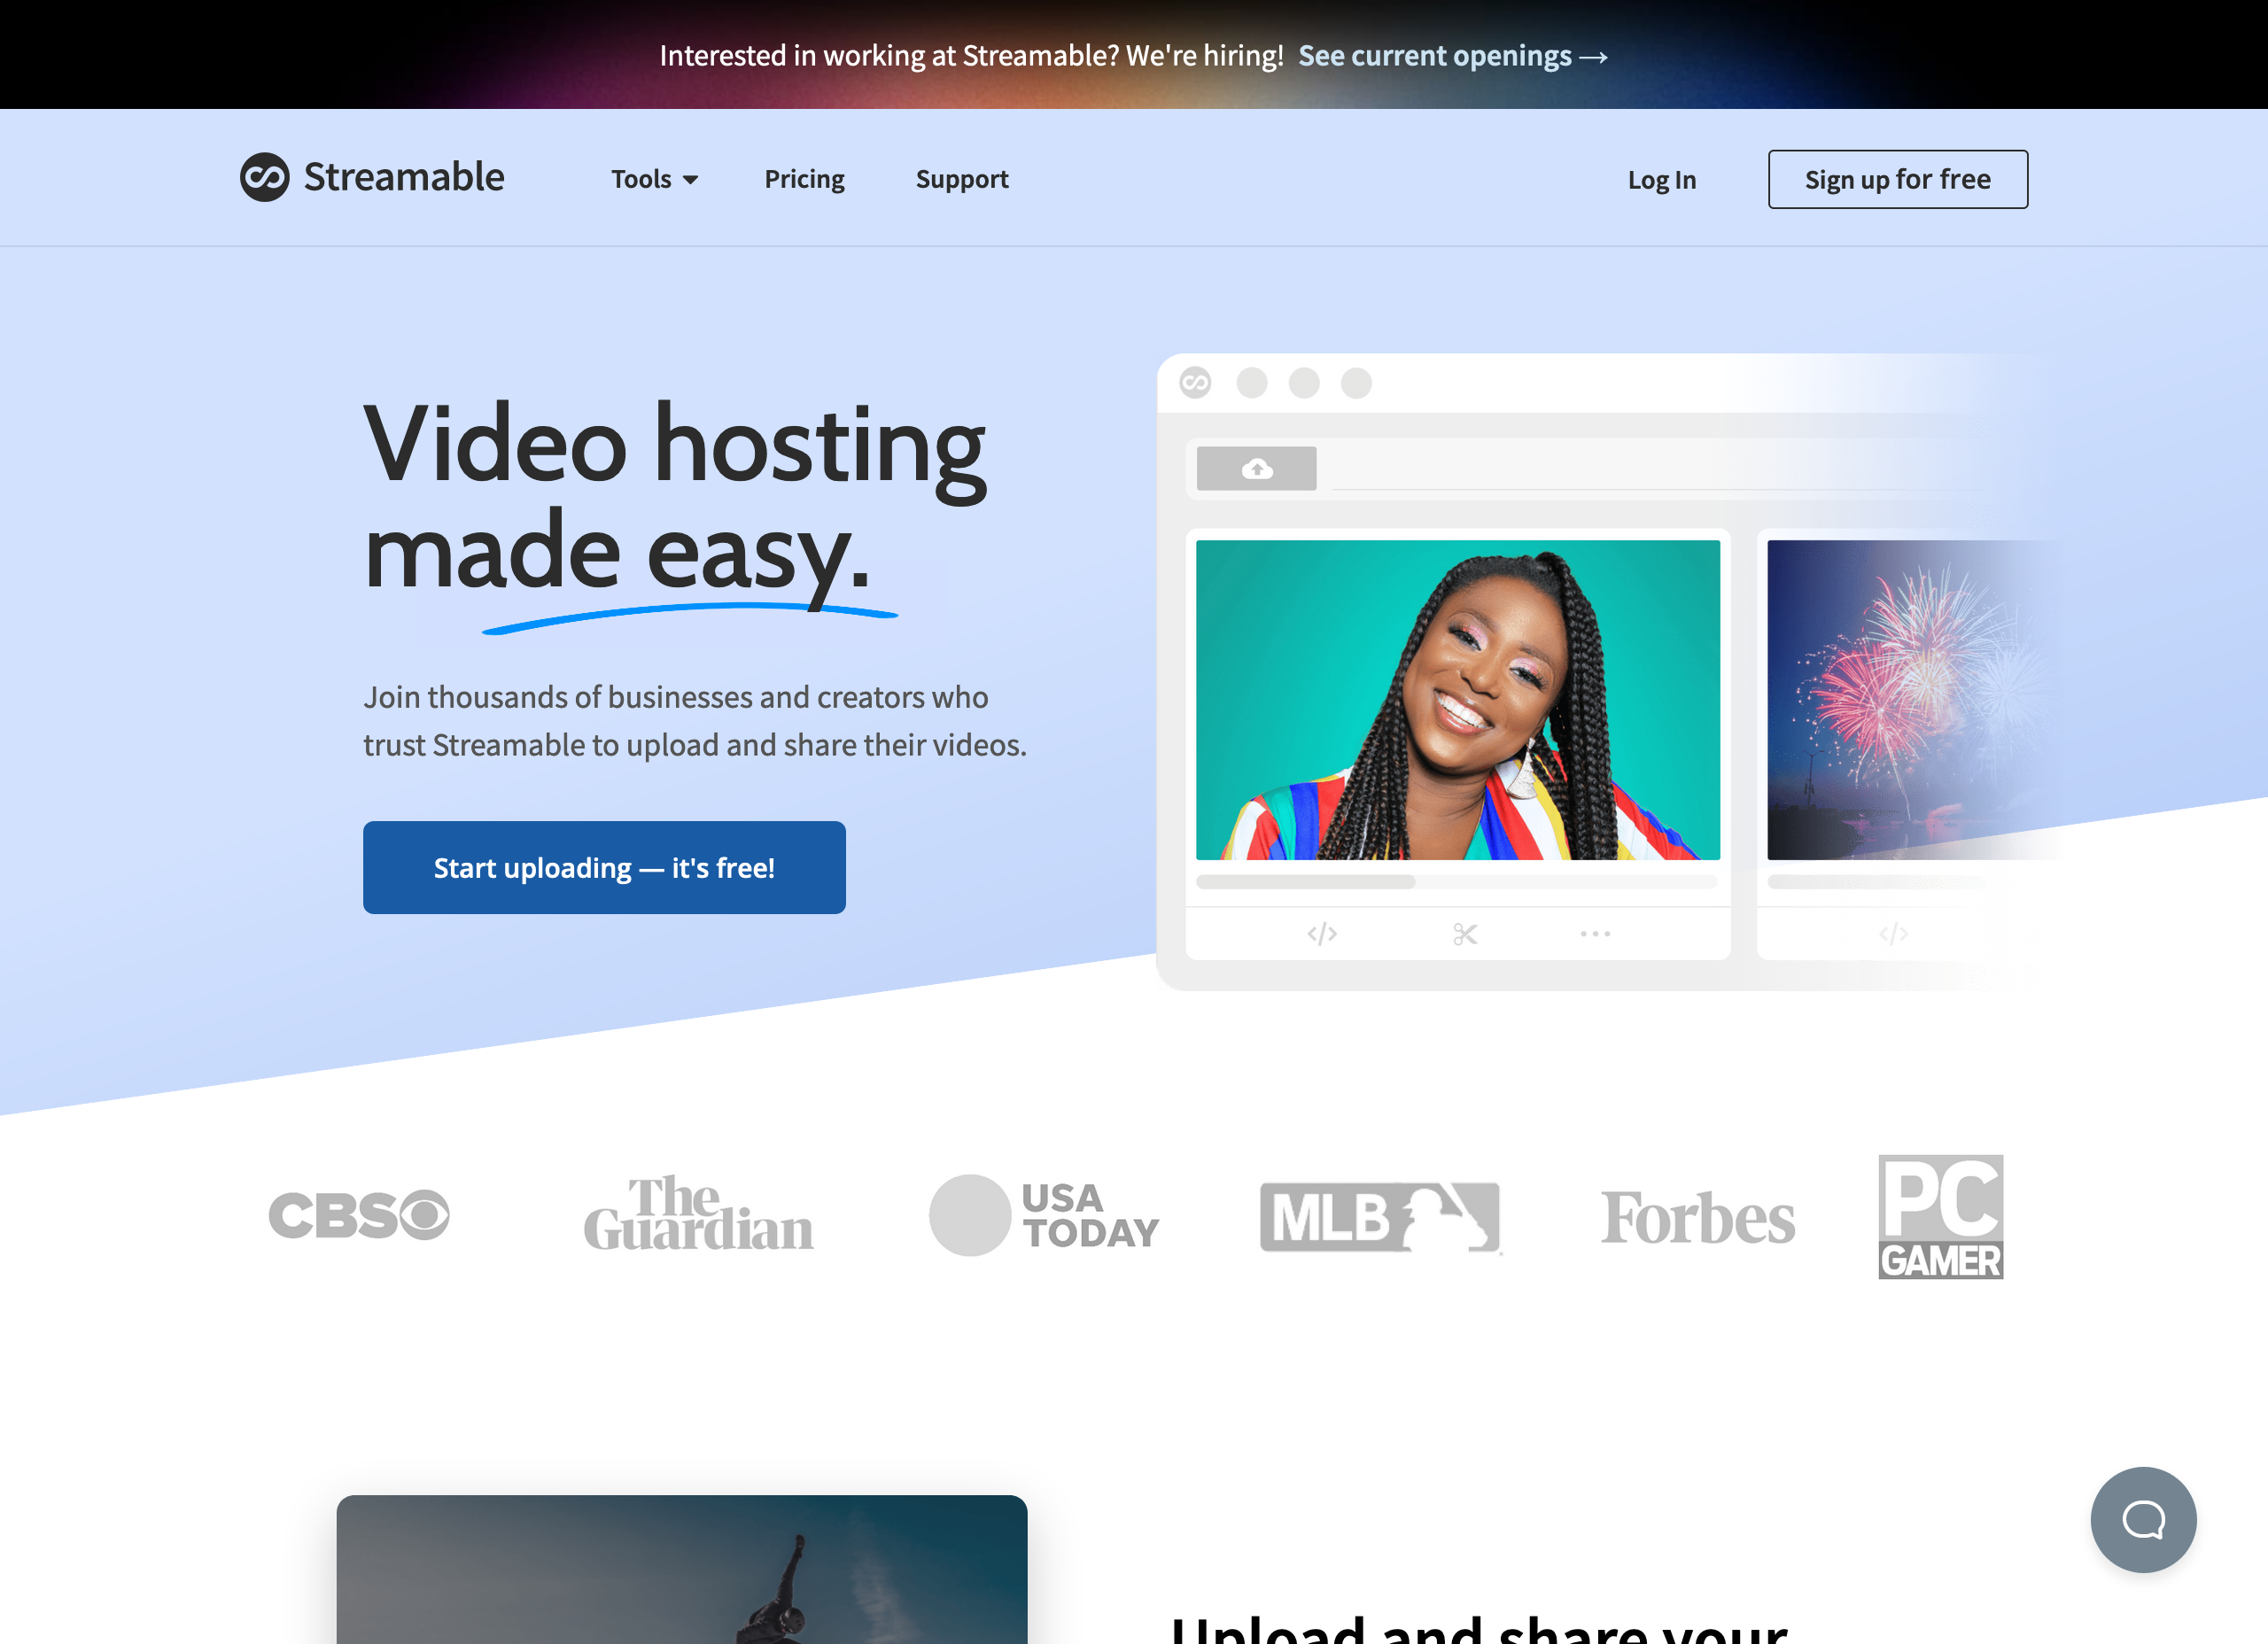Login: (1606, 146, 1713, 213)
